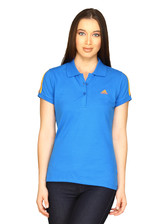clothoes: (32, 57, 131, 191)
